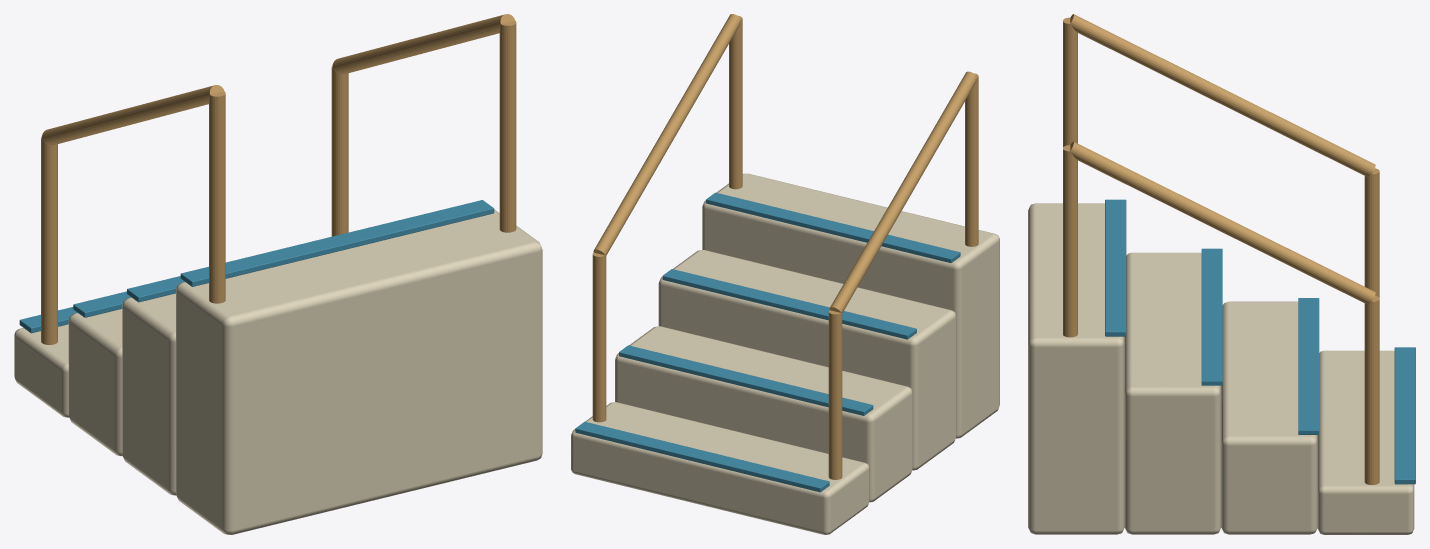
File: fantasy-bathhouse-and-thermal-sanctuary-fantasy-bathho-be98c5c1__29454.glb
3 views of the same model, side by side, from view 1: azimuth 30°, elevation 25°; view 2: azimuth 150°, elevation 25°; view 3: azimuth 270°, elevation 25° (orthographic). The views are drawn at different scales.
Visible parts, largest first — view 1: fantasy-bathhouse-and-thermal-sanctuary-pool-entry-stair; view 2: fantasy-bathhouse-and-thermal-sanctuary-pool-entry-stair; view 3: fantasy-bathhouse-and-thermal-sanctuary-pool-entry-stair.
Part boxes in pixels (x1,y1,x2,y2): fantasy-bathhouse-and-thermal-sanctuary-pool-entry-stair: (14,14,542,534); fantasy-bathhouse-and-thermal-sanctuary-pool-entry-stair: (571,14,999,534); fantasy-bathhouse-and-thermal-sanctuary-pool-entry-stair: (1028,14,1415,534).
Size of the model in its own units: 1.1 by 1.42 by 1.28.
